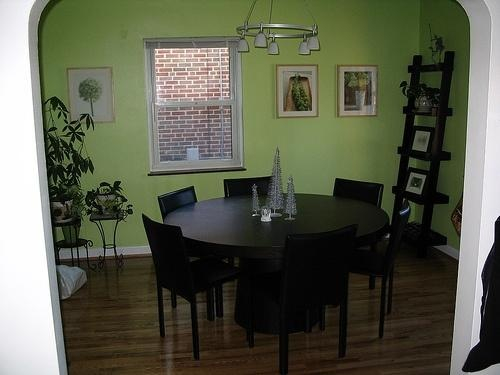chair: (246, 222, 360, 375), (142, 214, 256, 361), (158, 186, 235, 311), (340, 199, 412, 313), (331, 177, 387, 291), (223, 175, 277, 199)
pottedplant: (49, 96, 96, 243), (86, 181, 134, 218)
